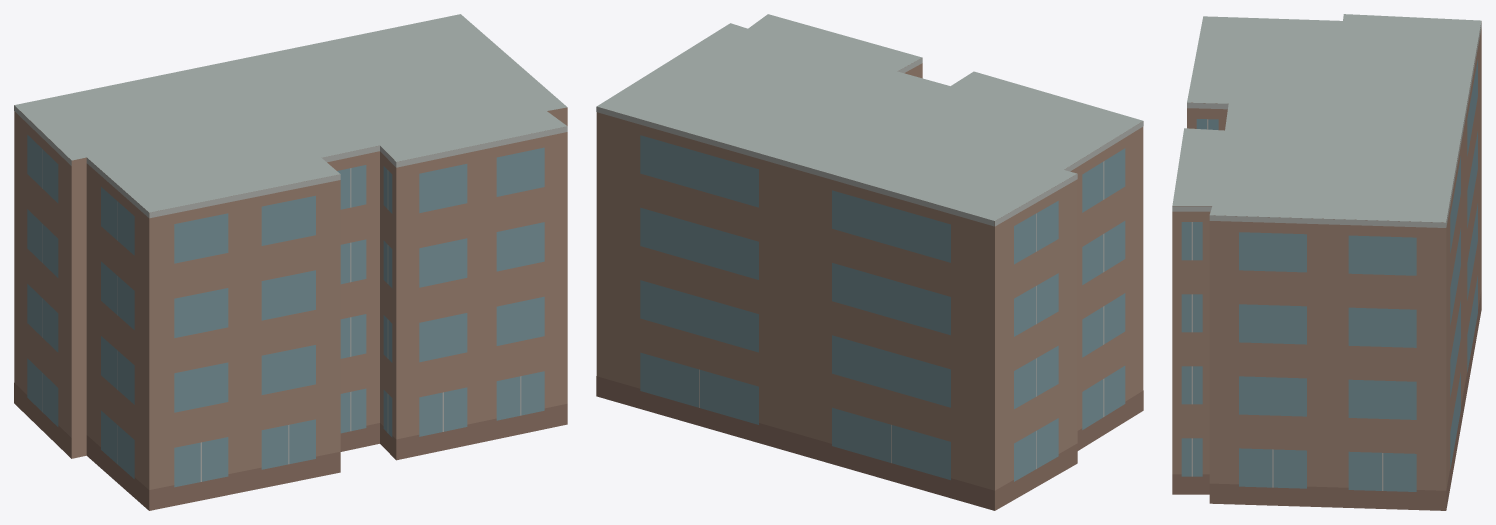
File: survey-upis-32625587.glb
3 views of the same model, side by side, from view 1: azimuth 30°, elevation 25°; view 2: azimuth 150°, elevation 25°; view 3: azimuth 270°, elevation 25° (orthographic). The views are drawn at different scales.
Visible parts, largest first — view 1: survey-upis-32625587.tmp; view 2: survey-upis-32625587.tmp; view 3: survey-upis-32625587.tmp.
Boxes of the visible parts, x1=… form: survey-upis-32625587.tmp: x1=14, y1=14, x2=567, y2=510; survey-upis-32625587.tmp: x1=596, y1=14, x2=1143, y2=510; survey-upis-32625587.tmp: x1=1172, y1=14, x2=1481, y2=510.
Bounding box in the file's own units: 19.71 × 12.7 × 12.36.
